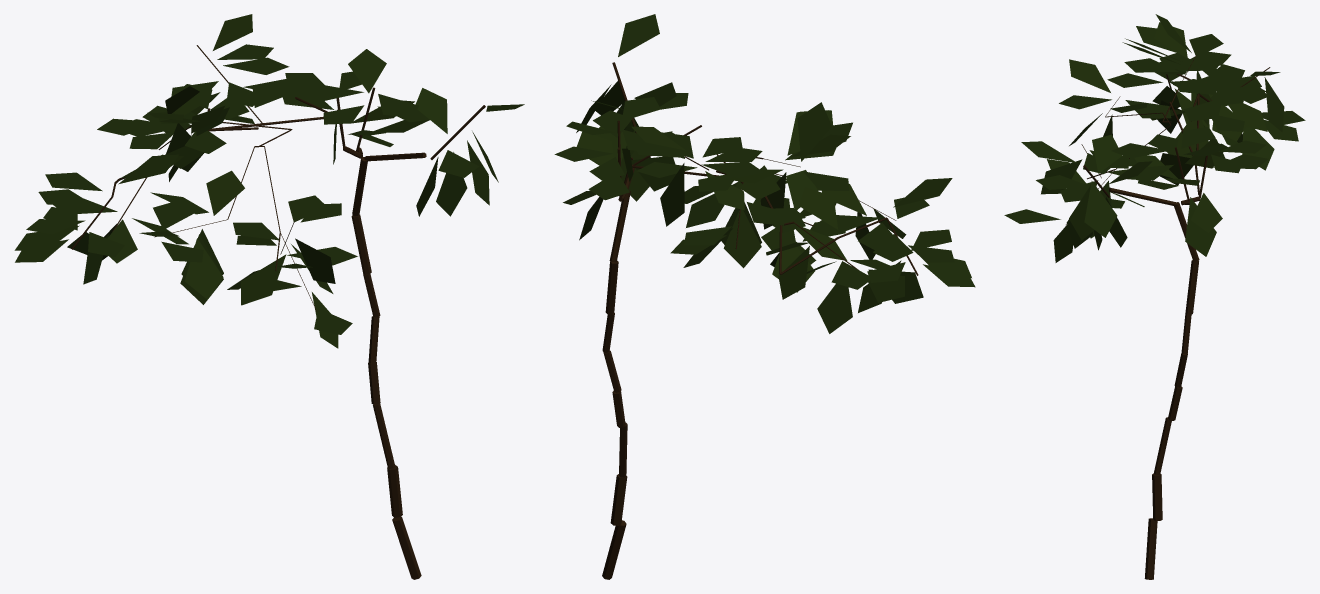
File: 2022_tree_381.obj
3 renders of one model, left to right at view 1: azimuth 30°, elevation 25°; view 2: azimuth 150°, elevation 25°; view 3: azimuth 270°, elevation 25°, orthographic. The views are drawn at different scales.
Visible parts, largest first — view 1: Leaves, TrunkAndBranches; view 2: Leaves, TrunkAndBranches; view 3: Leaves, TrunkAndBranches.
Boxes of the visible parts, x1,y1,x2,y2 form: Leaves: (14, 14, 524, 348); TrunkAndBranches: (71, 45, 485, 579); Leaves: (554, 14, 975, 333); TrunkAndBranches: (602, 62, 918, 579); Leaves: (1004, 14, 1305, 262); TrunkAndBranches: (1066, 55, 1270, 579).
Size of the model in its own units: 2.15 by 2.5 by 1.45.
